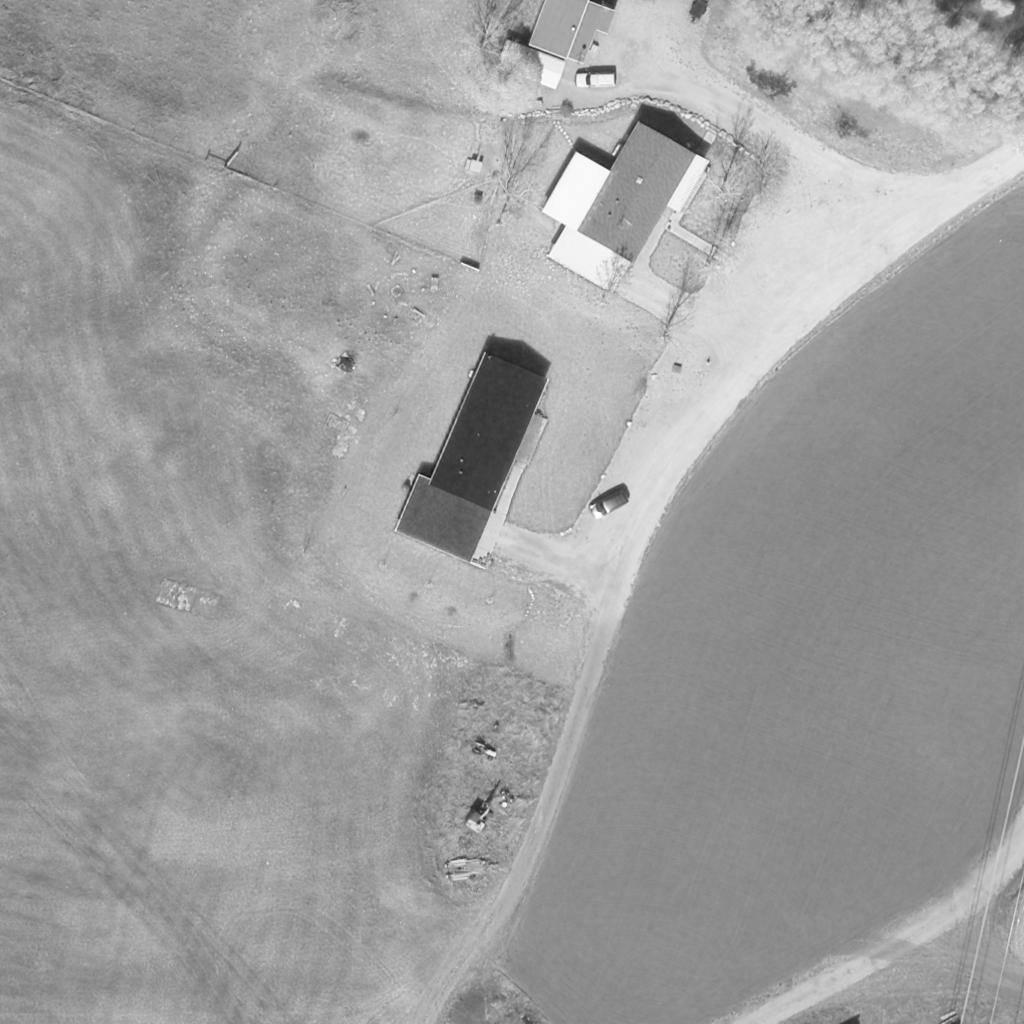vehicle: (461, 776, 513, 834), (588, 487, 630, 525), (574, 73, 616, 89)
